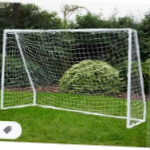goals: (1, 26, 150, 127)
